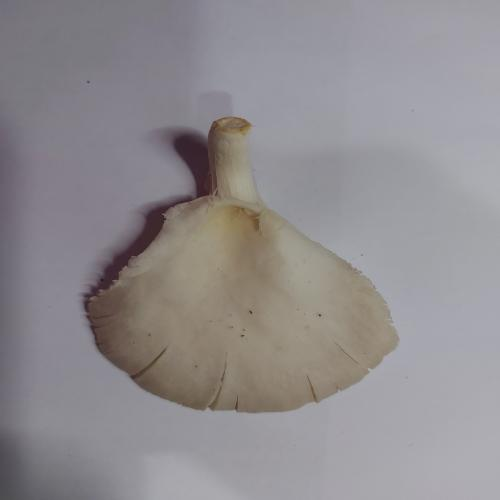Oyster Mushroom: (85, 115, 400, 414)
